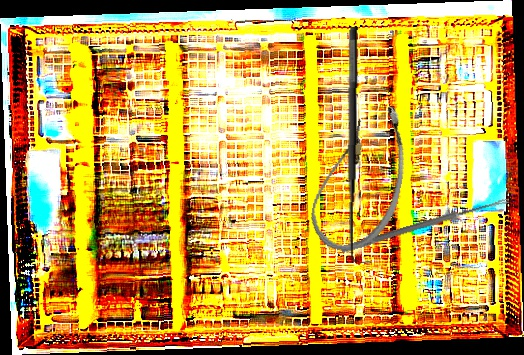Cannula: (305, 94, 417, 260)
Hook Surgical: (342, 27, 377, 263)
Surgical Spoon: (340, 195, 510, 255)
